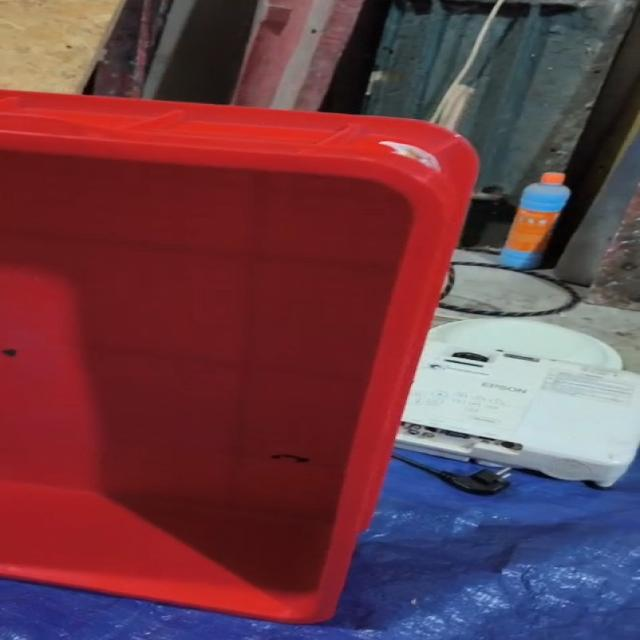red plastic box: (0, 89, 479, 624)
